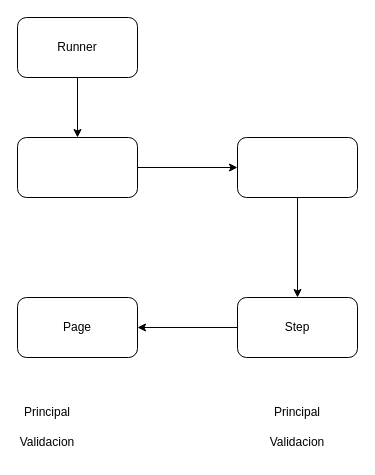
The diagram is 375 pixels wide and 475 high, and some of its shapes have lost their labels. Each missing label, with the centre of its shape:
Definitios: point (297, 167)
feature: point (77, 167)
